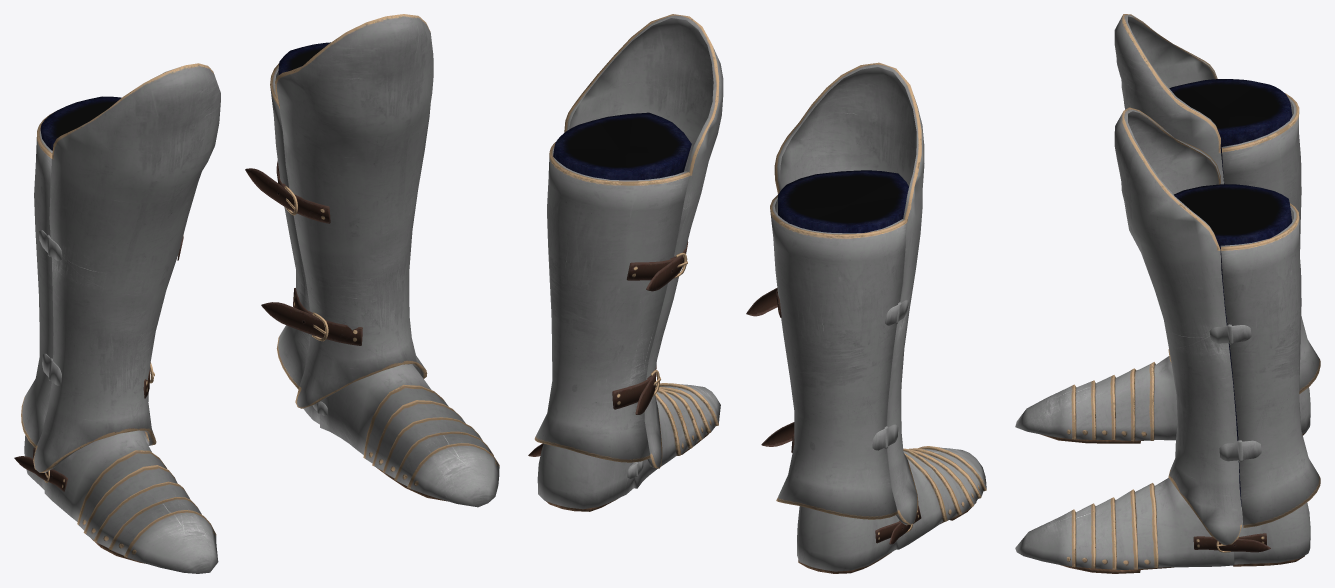
The model's file is swan_knight_greaves_b_sabatons.fbx.
The picture shows the model from 3 angles, left to right: view 1: azimuth 30°, elevation 25°; view 2: azimuth 150°, elevation 25°; view 3: azimuth 270°, elevation 25°; orthographic projection. The views are drawn at different scales.
Parts seen in each view (by area): view 1: swan_knight_greaves_b_sabatons; view 2: swan_knight_greaves_b_sabatons; view 3: swan_knight_greaves_b_sabatons.
Boxes of the visible parts, x1,y1,x2,y2 form: swan_knight_greaves_b_sabatons: (14, 14, 499, 573); swan_knight_greaves_b_sabatons: (528, 14, 986, 573); swan_knight_greaves_b_sabatons: (1015, 14, 1320, 573).
Size of the model in its own units: 0.482 by 0.3518 by 0.5374.
Materials: 1 (1 with a texture image).
